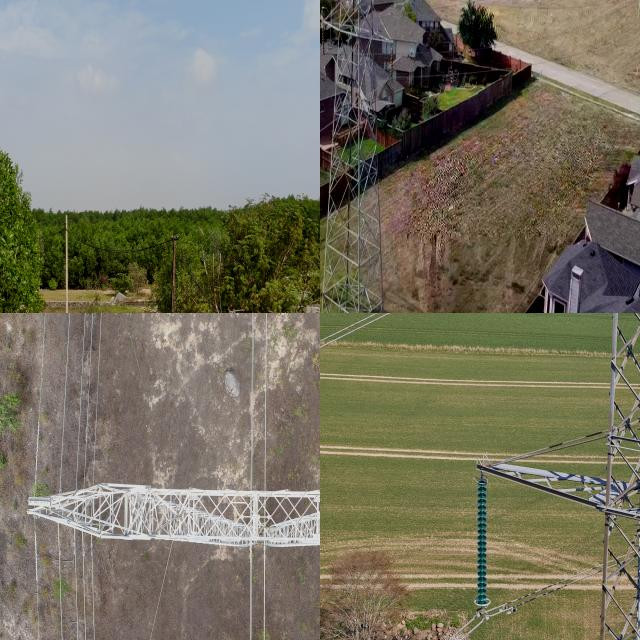杆塔: (320, 0, 401, 313), (26, 479, 320, 553)
正常电缆: (30, 313, 50, 477), (56, 313, 74, 477), (146, 555, 173, 640), (90, 313, 104, 476), (74, 313, 87, 477), (83, 313, 96, 476), (246, 313, 257, 478), (263, 313, 269, 477), (33, 561, 45, 640), (56, 562, 68, 640), (82, 562, 89, 640), (248, 562, 254, 640), (262, 563, 268, 640), (74, 563, 80, 640), (91, 563, 97, 640)
正常绝缘子: (471, 478, 496, 612), (387, 42, 396, 82), (321, 20, 326, 58)
